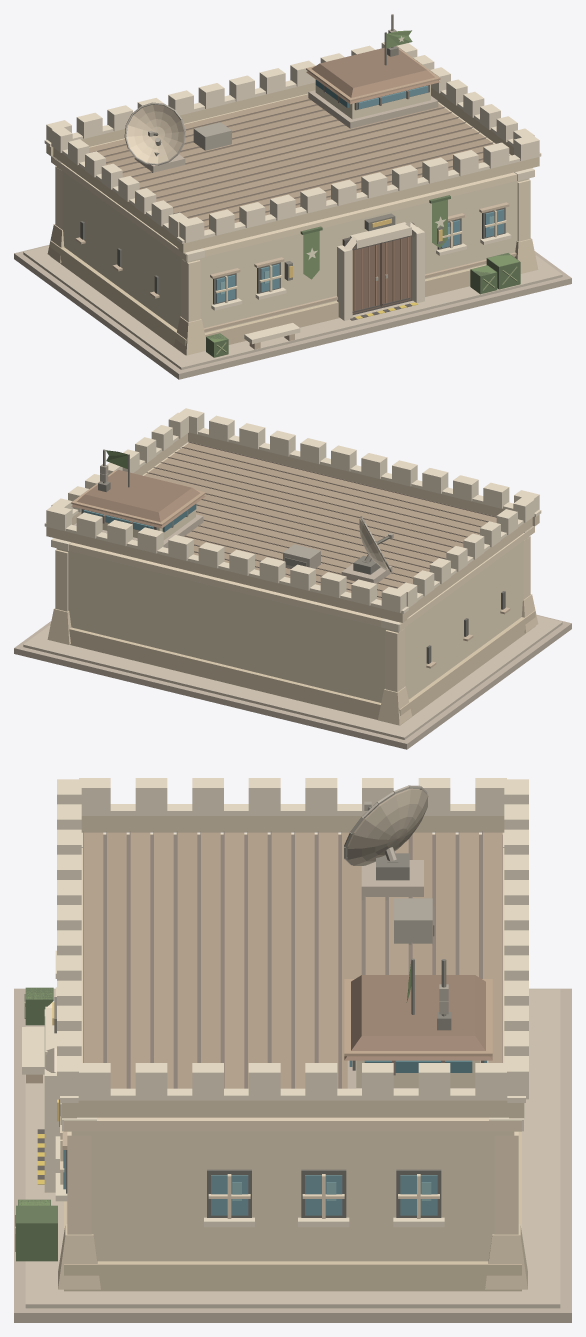
File: sandforge_feldkommando_lowpoly_1geschoss.glb
3 renders of one model, top to bottom at view 1: azimuth 30°, elevation 25°; view 2: azimuth 150°, elevation 25°; view 3: azimuth 270°, elevation 25°, orthographic. The views are drawn at different scales.
Parts seen in each view (by area): view 1: HQ_static_sand_light, HQ_static_sand_wall, HQ_static_roof_wood, HQ_static_roof_alt, HQ_static_sand_brick, HQ_static_concrete, HQ_static_sand_trim, HQ_static_concrete_light, HQ_static_sand_base, HQ_static_roof_line, HQ_static_roof_cap, Radar_Pivot_dish_inner (+14 smaller); view 2: HQ_static_sand_wall, HQ_static_sand_light, HQ_static_roof_alt, HQ_static_roof_wood, HQ_static_sand_brick, HQ_static_concrete_light, HQ_static_sand_base, HQ_static_concrete, HQ_static_sand_trim, HQ_static_roof_line, HQ_static_roof_cap, HQ_static_metal_light (+3 smaller); view 3: HQ_static_sand_wall, HQ_static_sand_light, HQ_static_roof_alt, HQ_static_roof_wood, HQ_static_concrete_light, HQ_static_sand_brick, HQ_static_concrete, HQ_static_roof_line, HQ_static_sand_trim, HQ_static_sand_base, HQ_static_roof_cap, HQ_static_glass (+8 smaller).
Part boxes in pixels (left/top/right/bottom): HQ_static_sand_light: left=44, top=42, right=541, bottom=344; HQ_static_sand_wall: left=57, top=84, right=529, bottom=332; HQ_static_roof_wood: left=105, top=103, right=509, bottom=230; HQ_static_roof_alt: left=89, top=94, right=493, bottom=227; HQ_static_sand_brick: left=46, top=82, right=539, bottom=355; HQ_static_concrete: left=14, top=90, right=571, bottom=379; HQ_static_sand_trim: left=51, top=93, right=530, bottom=322; HQ_static_concrete_light: left=23, top=246, right=562, bottom=369; HQ_static_sand_base: left=50, top=240, right=535, bottom=355; HQ_static_roof_line: left=89, top=85, right=493, bottom=226; HQ_static_roof_cap: left=306, top=47, right=440, bottom=104; Radar_Pivot_dish_inner: left=126, top=104, right=183, bottom=163; HQ_static_sand_wall: left=56, top=509, right=528, bottom=702; HQ_static_sand_light: left=44, top=408, right=541, bottom=631; HQ_static_roof_alt: left=144, top=442, right=496, bottom=600; HQ_static_roof_wood: left=149, top=447, right=487, bottom=597; HQ_static_sand_brick: left=46, top=432, right=539, bottom=725; HQ_static_concrete_light: left=23, top=615, right=562, bottom=739; HQ_static_sand_base: left=50, top=610, right=535, bottom=725; HQ_static_concrete: left=14, top=514, right=571, bottom=749; HQ_static_sand_trim: left=55, top=448, right=534, bottom=692; HQ_static_roof_line: left=102, top=442, right=496, bottom=597; HQ_static_roof_cap: left=71, top=470, right=205, bottom=528; HQ_static_metal_light: left=100, top=464, right=320, bottom=568; HQ_static_sand_wall: left=71, top=1060, right=514, bottom=1261; HQ_static_sand_light: left=22, top=778, right=528, bottom=1227; HQ_static_roof_alt: left=83, top=832, right=502, bottom=1088; HQ_static_roof_wood: left=107, top=832, right=455, bottom=1088; HQ_static_concrete_light: left=25, top=989, right=560, bottom=1308; HQ_static_sand_brick: left=58, top=816, right=527, bottom=1289; HQ_static_concrete: left=14, top=860, right=571, bottom=1322; HQ_static_roof_line: left=83, top=831, right=502, bottom=1088; HQ_static_sand_trim: left=60, top=833, right=521, bottom=1234; HQ_static_sand_base: left=64, top=1131, right=521, bottom=1291; HQ_static_roof_cap: left=344, top=975, right=492, bottom=1060; HQ_static_glass: left=63, top=1060, right=486, bottom=1215.
Size of the model in its own units: 15 by 6.89 by 10.9.
